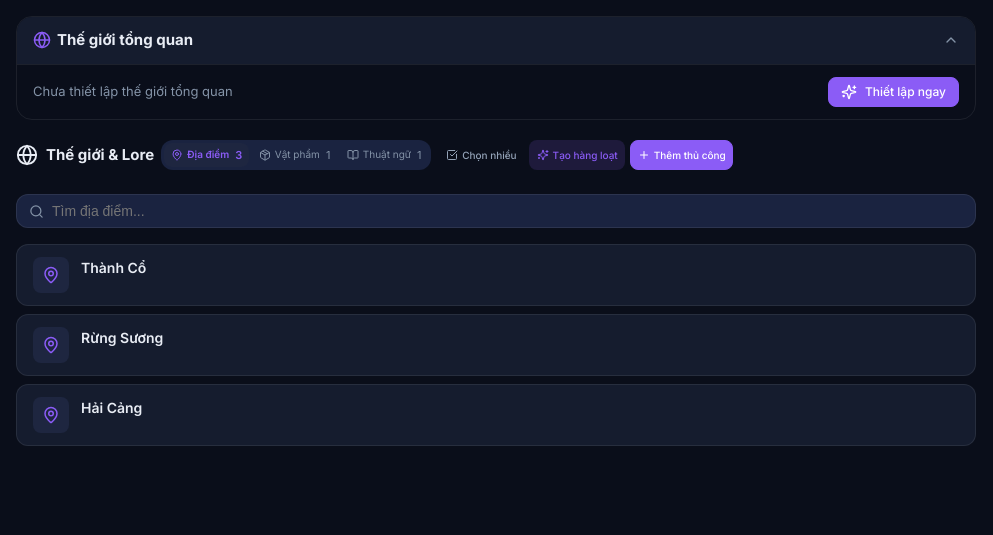
Test: phase10 WorldLore bulk deletion › clears selection when switching entity tabs
The width and height of the screenshot is (993, 535).
Click the button "Chọn nhiều": (481, 155) [438,140,524,170]
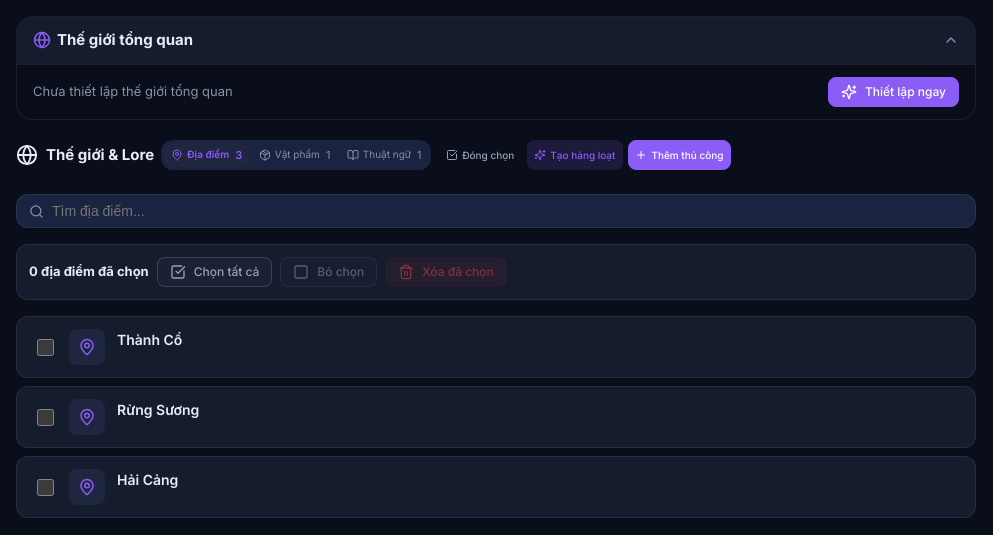
Click the checkbox named "Chọn Thành Cổ": (45, 347) [36,338,54,356]
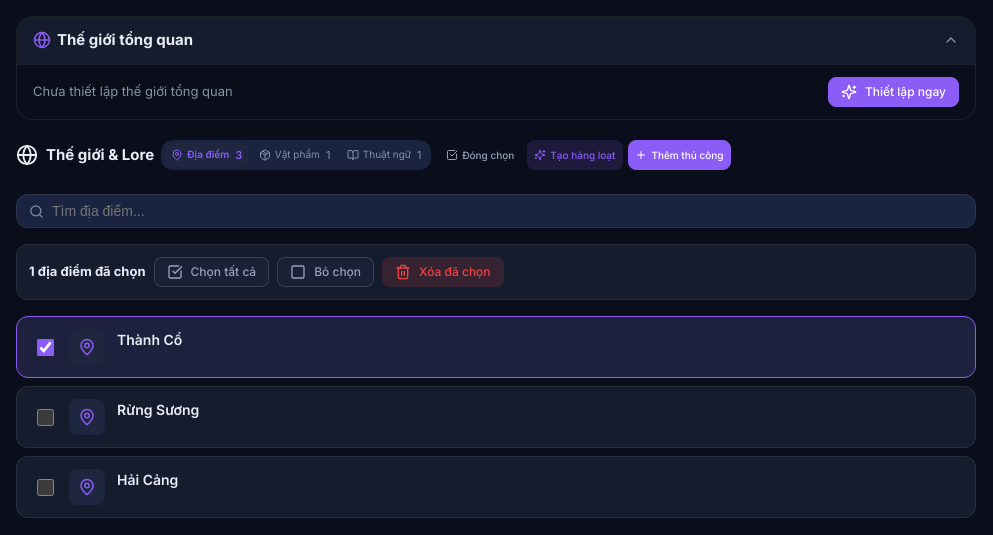
Expected: the text "1 địa điểm đã chọn" is shown, [29,262,146,282]
Click the button "Vật phẩm 1": (294, 155) [252,142,337,167]
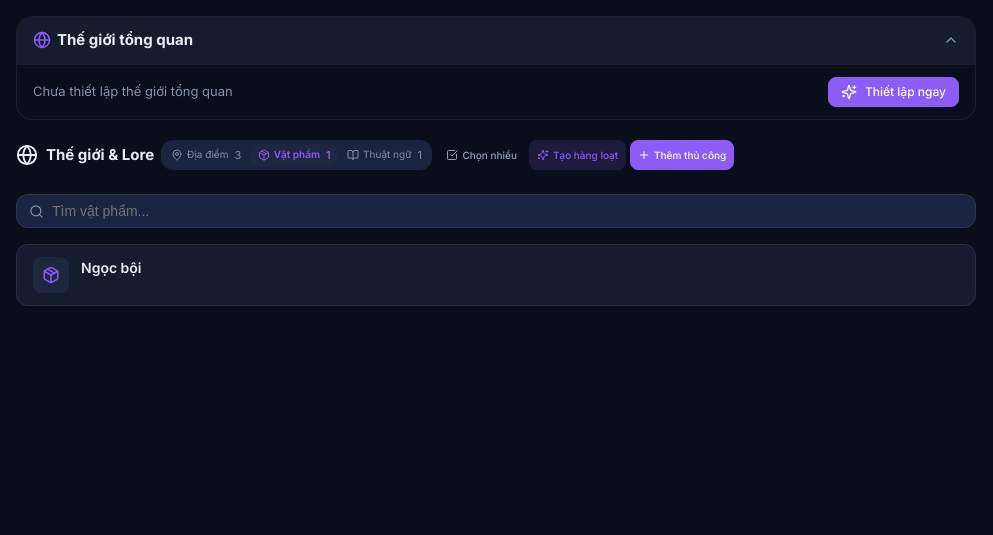
Expected: the text "địa điểm đã chọn" is gone
